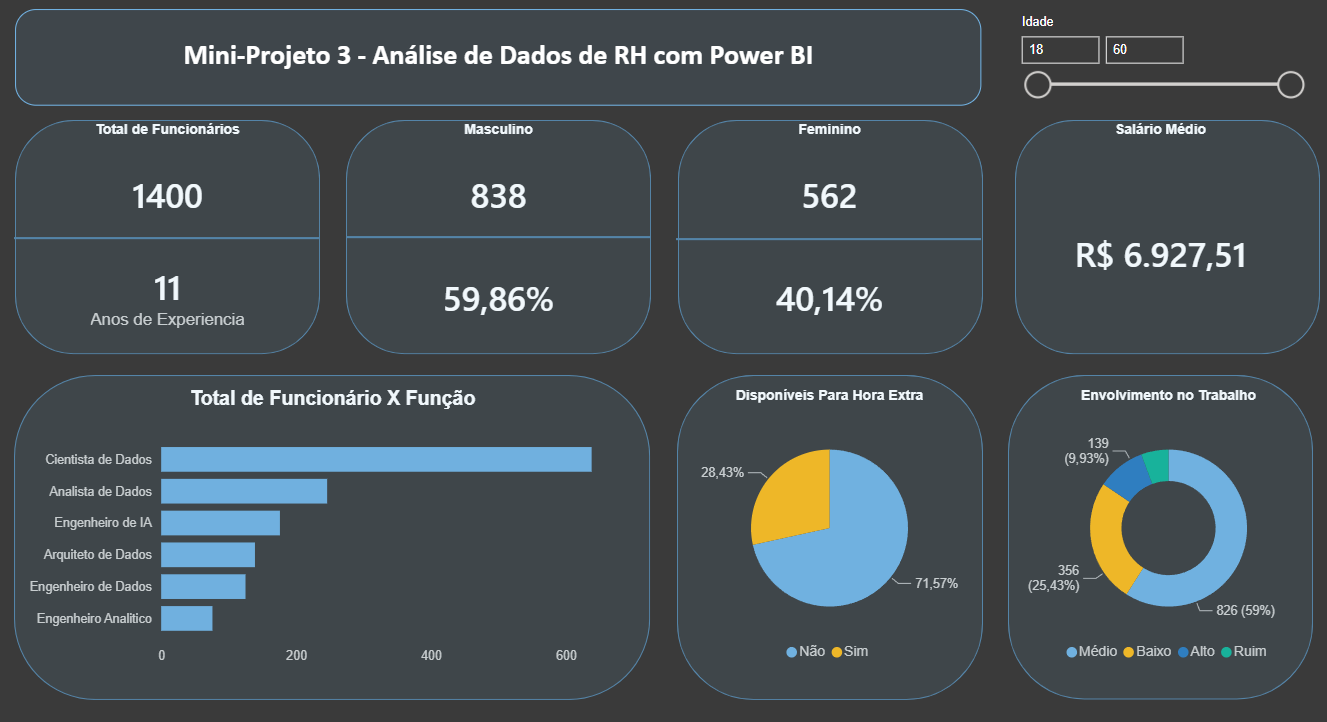

What the dashboard file says about the page in this screenshot:
{"tool":"powerbi","page":{"name":"Página 1","canvas":[1280,720],"ordinal":0},"visuals":[{"type":"textbox","box":[22.8,20.6,919.3,92.4],"z":0},{"type":"barChart","title":"Total de Funcionário X Função","fields":{"Category":["DatasetRH.Funcao"],"Y":["medidas.TotalFunc"]},"box":[22.8,380.3,604.1,271.6],"z":1000},{"type":"pieChart","title":"Disponíveis Para Hora Extra","fields":{"Category":["DatasetRH.Disponivel_Hora_Extra"],"Y":["medidas.TotalFunc"]},"box":[652,380.3,290.1,271.6],"z":2000},{"type":"donutChart","title":"Envolvimento no Trabalho","fields":{"Y":["medidas.TotalFunc"],"Category":["DatasetRH.Envolvimento_Trabalho"]},"box":[974.7,380.3,290.1,271.6],"z":3000},{"type":"cardVisual","title":"Total de Funcionários","fields":{"Data":["medidas.TotalFunc"]},"box":[22.8,127.1,290.3,111.9],"z":4000},{"type":"cardVisual","title":"Total de Funcionários","fields":{"Data":["medidas.AnosExperiencia"]},"box":[22.8,239,290.3,111.9],"z":5000},{"type":"cardVisual","title":"Masculino","fields":{"Data":["medidas.TotalMasculino"]},"box":[337.5,127.1,290.3,111.9],"z":6000},{"type":"cardVisual","title":"Salário Médio","fields":{"Data":["medidas.SalarioMedio"]},"box":[967.1,127.1,290.1,222.8],"z":7000},{"type":"cardVisual","title":"Feminino","fields":{"Data":["medidas.TotalFeminino"]},"box":[652.2,127.1,290.3,111.9],"z":8000},{"type":"cardVisual","title":"Total de Funcionários","fields":{"Data":["medidas.PorcentagemMasc"]},"box":[337.5,237.8,290.3,111.9],"z":9000},{"type":"cardVisual","title":"Total de Funcionários","fields":{"Data":["medidas.PorcentagemFem"]},"box":[652.2,237.8,290.3,111.9],"z":11000},{"type":"shape","box":[22.8,126,290.1,222.8],"z":11008},{"type":"shape","box":[336.8,126,290.1,222.8],"z":11009},{"type":"shape","box":[652,126,290.1,222.8],"z":11010},{"type":"shape","box":[967.1,126,290.1,222.8],"z":11011},{"type":"shape","box":[22.8,126,290.1,222.8],"z":11012},{"type":"shape","box":[336.8,127.1,290.1,222.8],"z":11013},{"type":"shape","box":[652,128.2,290.1,222.8],"z":11014},{"type":"slicer","fields":{"Values":["DatasetRH.Idade"]},"box":[967.1,20.6,290.1,92.4],"z":11015},{"type":"shape","box":[22.8,359.7,605.2,308.6],"z":11016},{"type":"shape","box":[652,359.7,290.1,308.6],"z":11017},{"type":"shape","box":[967.1,359.7,290.1,308.6],"z":11018}]}

Visuals, with their boxes on the page's 1280x720 design canvas (x1, y1, x2, y2). These are canvas units, not pixel positions in the 1327x722 screenshot, which may show the page scaled, cropped or inside an application window:
textbox: x1=23, y1=21, x2=942, y2=113
"Total de Funcionário X Função" barChart: x1=23, y1=380, x2=627, y2=652
"Disponíveis Para Hora Extra" pieChart: x1=652, y1=380, x2=942, y2=652
"Envolvimento no Trabalho" donutChart: x1=975, y1=380, x2=1265, y2=652
"Total de Funcionários" cardVisual: x1=23, y1=127, x2=313, y2=239
"Total de Funcionários" cardVisual: x1=23, y1=239, x2=313, y2=351
"Masculino" cardVisual: x1=338, y1=127, x2=628, y2=239
"Salário Médio" cardVisual: x1=967, y1=127, x2=1257, y2=350
"Feminino" cardVisual: x1=652, y1=127, x2=942, y2=239
"Total de Funcionários" cardVisual: x1=338, y1=238, x2=628, y2=350
"Total de Funcionários" cardVisual: x1=652, y1=238, x2=942, y2=350
shape: x1=23, y1=126, x2=313, y2=349
shape: x1=337, y1=126, x2=627, y2=349
shape: x1=652, y1=126, x2=942, y2=349
shape: x1=967, y1=126, x2=1257, y2=349
shape: x1=23, y1=126, x2=313, y2=349
shape: x1=337, y1=127, x2=627, y2=350
shape: x1=652, y1=128, x2=942, y2=351
slicer - DatasetRH.Idade: x1=967, y1=21, x2=1257, y2=113
shape: x1=23, y1=360, x2=628, y2=668
shape: x1=652, y1=360, x2=942, y2=668
shape: x1=967, y1=360, x2=1257, y2=668
